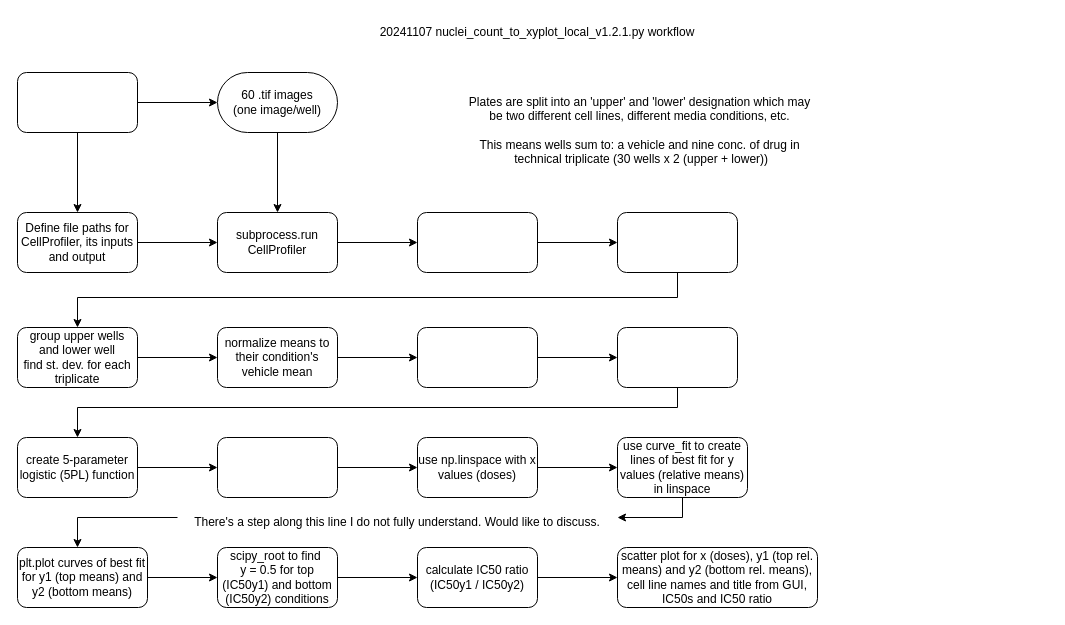
The diagram is 1065 pixels wide and 625 high, and some of its shapes have lost their labels. The shapes that lost their labels are listed below. From the top down, each one's centre as x and y in pixels, then its label:
At [77,102]: "Prompt GUI (cell lines, doses, title, image folder)".
At [477,242]: "load output into DataFrame (cp_csv)".
At [677,242]: "define triplicates and find their means (10 doses) * (2 cond.)".
At [477,357]: "put doses input from GUI into a np.array".
At [677,357]: "put normalized means into np.array".
At [277,467]: "define initial parameters for 5PL (some relative, some constant)".
